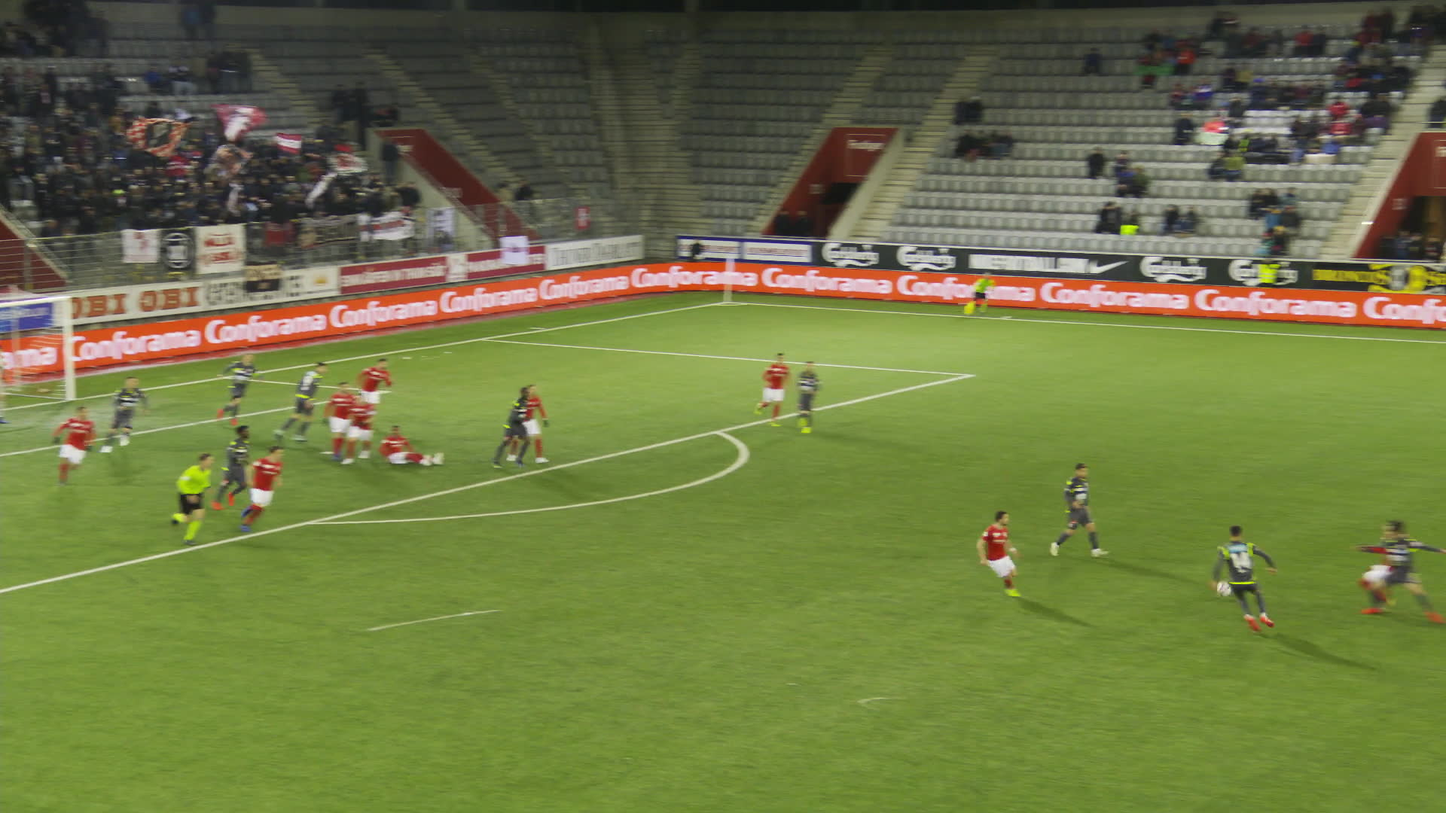ball: (1213, 577, 1232, 596)
player: (1205, 521, 1279, 635), (1051, 461, 1118, 562), (1357, 519, 1419, 606), (1356, 519, 1406, 620), (282, 360, 337, 447), (103, 373, 159, 457), (246, 443, 295, 534), (974, 508, 1023, 598), (50, 403, 98, 489), (218, 349, 270, 425), (488, 385, 532, 472), (517, 381, 560, 465), (222, 424, 262, 513), (384, 422, 454, 469), (758, 350, 798, 427), (328, 379, 364, 464), (337, 391, 376, 467), (801, 356, 838, 436), (363, 355, 405, 415), (0, 343, 26, 427)
referee: (168, 450, 216, 547), (971, 272, 1011, 317)
